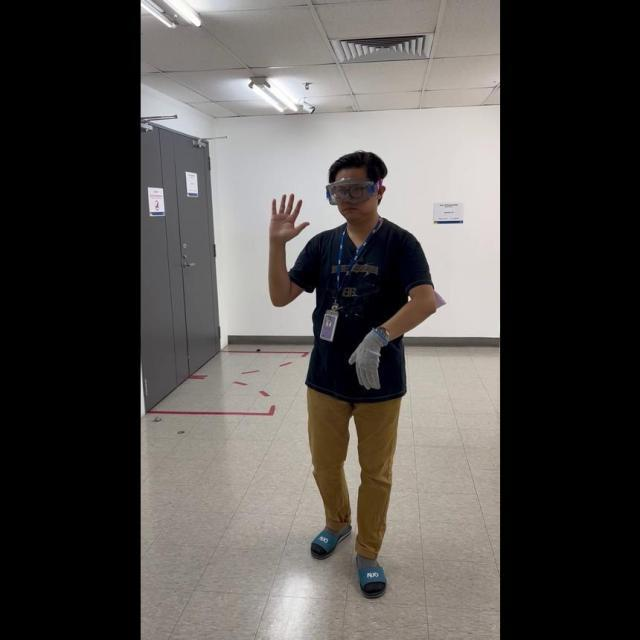bare_hand: (265, 187, 309, 242)
gloved_hand: (348, 324, 389, 389)
